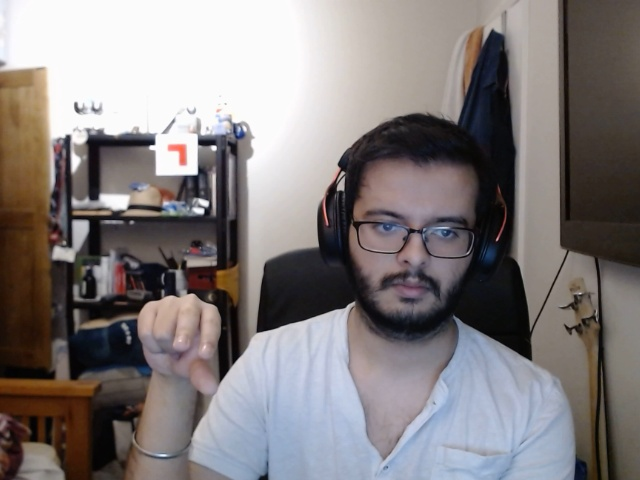No: (135, 280, 227, 405)
